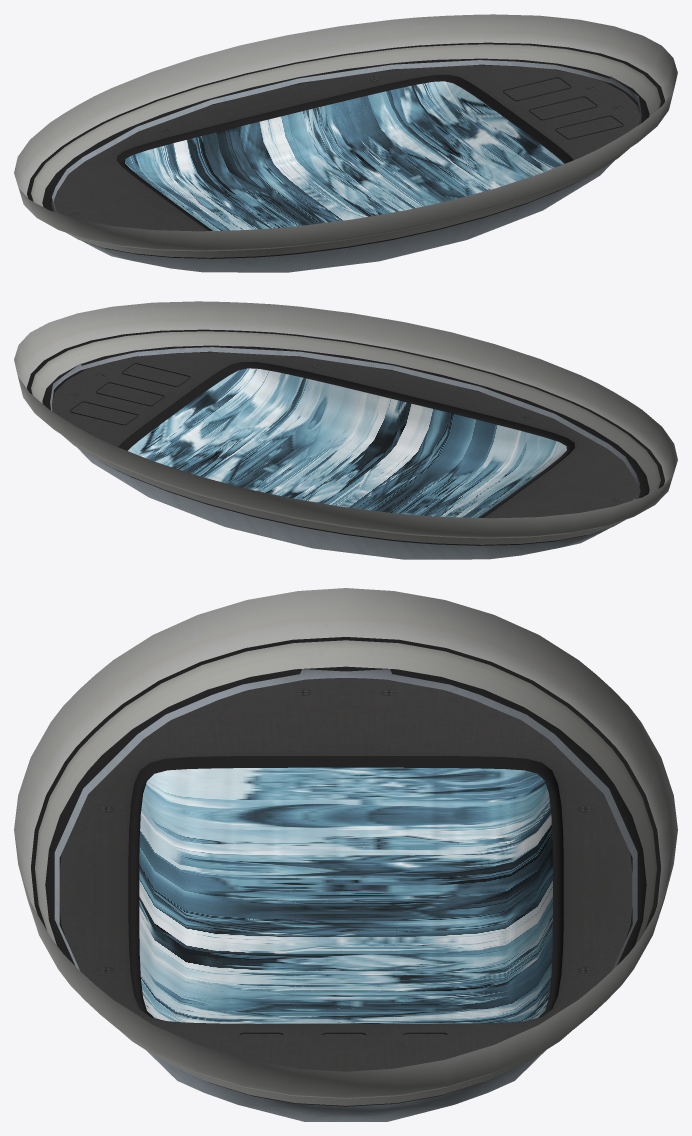
Rendered from nt_tv_wall_LOD0.obj.
3 renders of one model, top to bottom at view 1: azimuth 30°, elevation 25°; view 2: azimuth 150°, elevation 25°; view 3: azimuth 270°, elevation 25°, orthographic. The views are drawn at different scales.
Visible parts, largest first — view 1: mtl_nt_tv_wall, mtl_nt_2020_screen_animated_01, glass_clear_mp_model; view 2: mtl_nt_tv_wall, mtl_nt_2020_screen_animated_01, glass_clear_mp_model; view 3: mtl_nt_tv_wall, mtl_nt_2020_screen_animated_01, glass_clear_mp_model.
Part boxes in pixels (<box>): mtl_nt_tv_wall: <box>14,14,677,258</box>; mtl_nt_2020_screen_animated_01: <box>125,81,563,230</box>; glass_clear_mp_model: <box>52,60,641,272</box>; mtl_nt_tv_wall: <box>14,301,677,545</box>; mtl_nt_2020_screen_animated_01: <box>128,368,566,517</box>; glass_clear_mp_model: <box>50,347,639,559</box>; mtl_nt_tv_wall: <box>14,588,677,1106</box>; mtl_nt_2020_screen_animated_01: <box>139,767,552,1023</box>; glass_clear_mp_model: <box>54,669,637,1121</box>.
Bounding box in the file's own units: 169 × 24.82 × 98.09.
